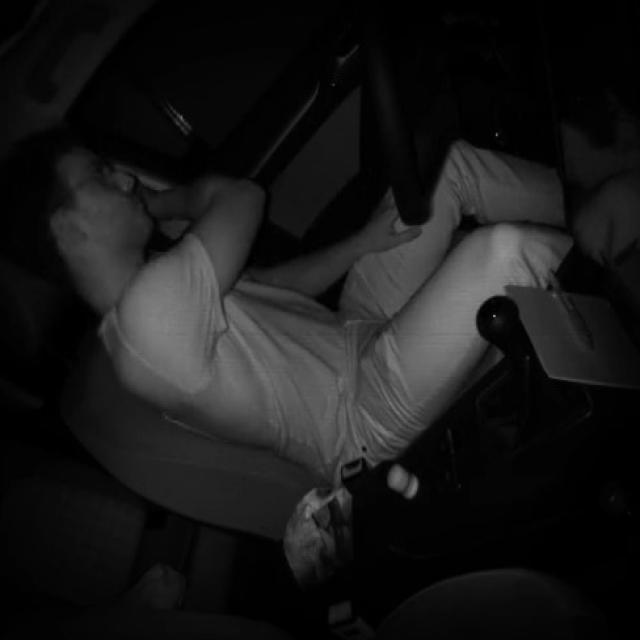pen: (543, 262, 597, 358)
